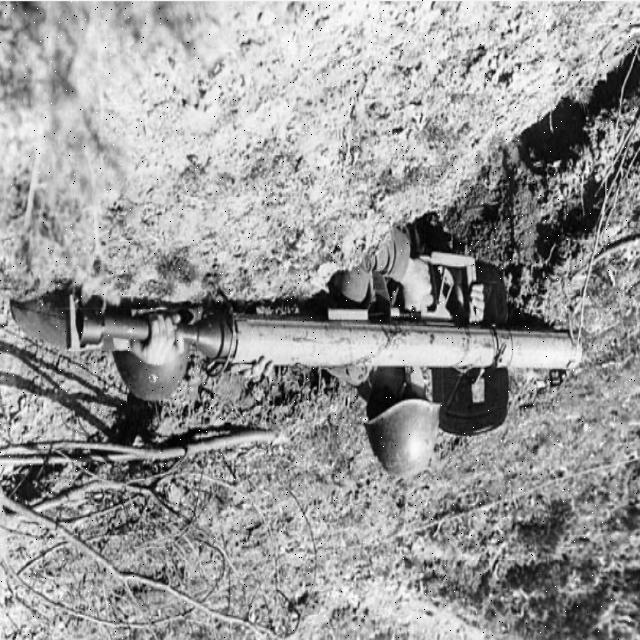bazooka: (79, 299, 588, 380)
